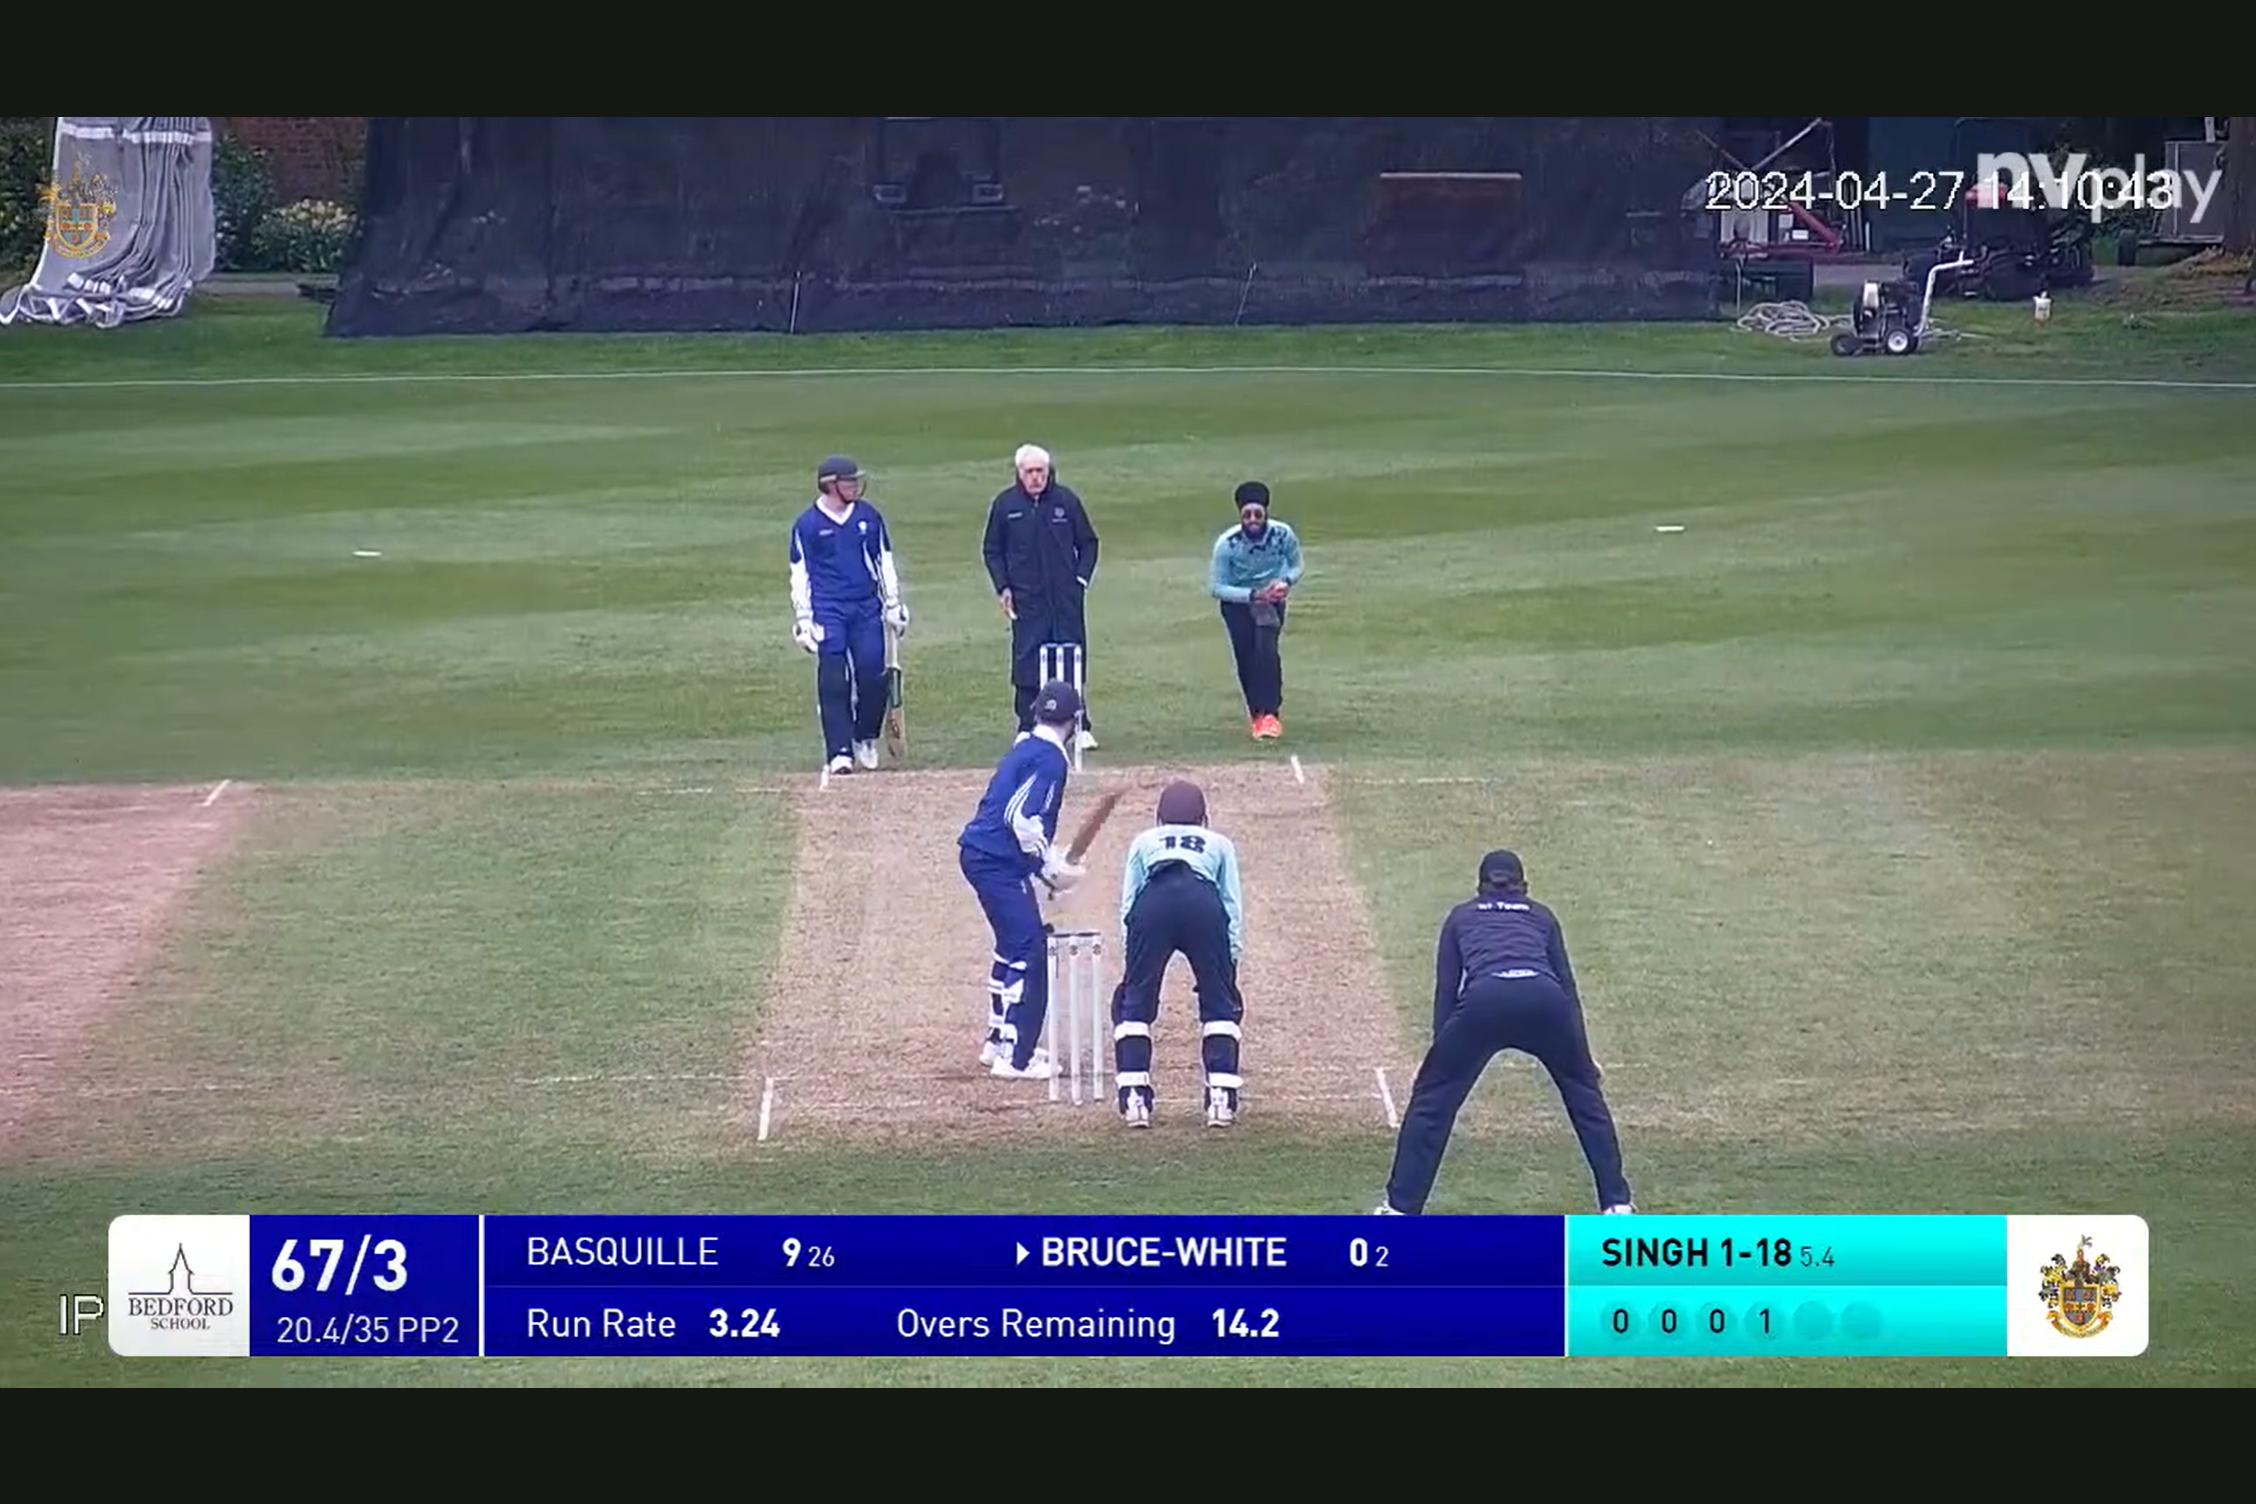batsman: (958, 673, 1089, 1069)
bowler running in: (1190, 458, 1341, 750)
non striker: (755, 438, 920, 791)
umpire: (984, 428, 1120, 658)
wicket keeper: (1116, 769, 1251, 1135)
